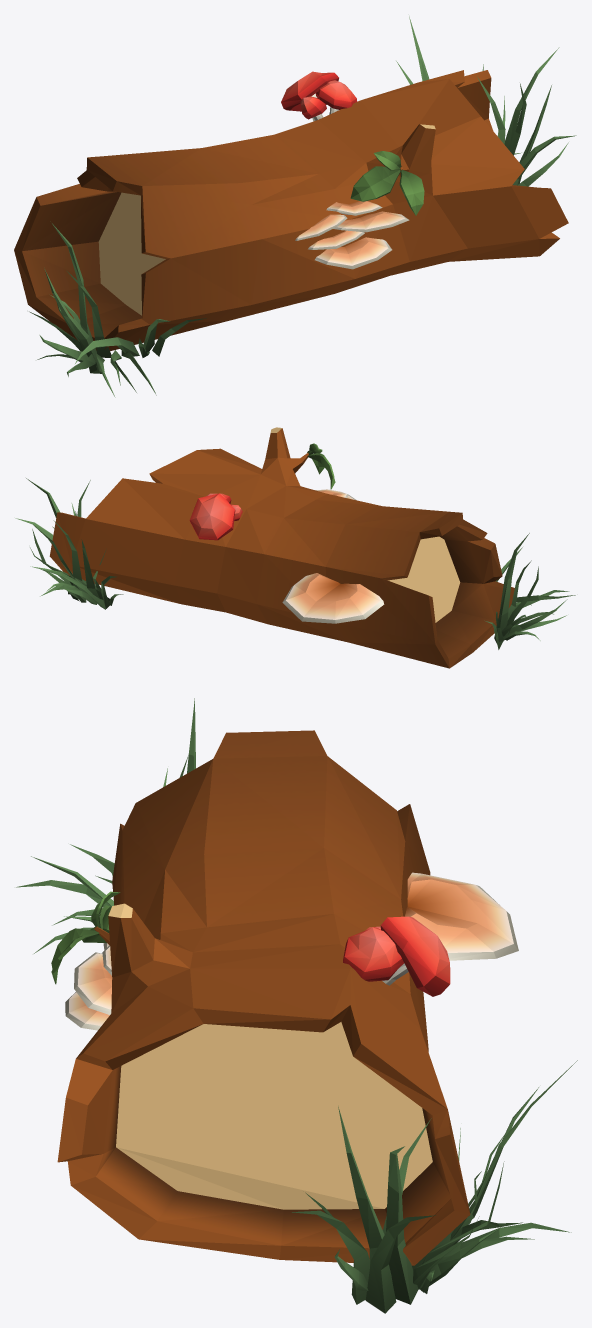
File: TreeLog_B-03.FBX
3 views of the same model, one above another, from view 1: azimuth 30°, elevation 25°; view 2: azimuth 150°, elevation 25°; view 3: azimuth 270°, elevation 25° (orthographic). The views are drawn at different scales.
Visible parts, largest first — view 1: TreeLog_B-03; view 2: TreeLog_B-03; view 3: TreeLog_B-03.
Part boxes in pixels (bbox=[...]): TreeLog_B-03: bbox=[14, 16, 576, 397]; TreeLog_B-03: bbox=[15, 427, 575, 668]; TreeLog_B-03: bbox=[16, 698, 577, 1313].
Bounding box in the file's own units: 290 × 86.57 × 155.
1 material, 1 textured.
